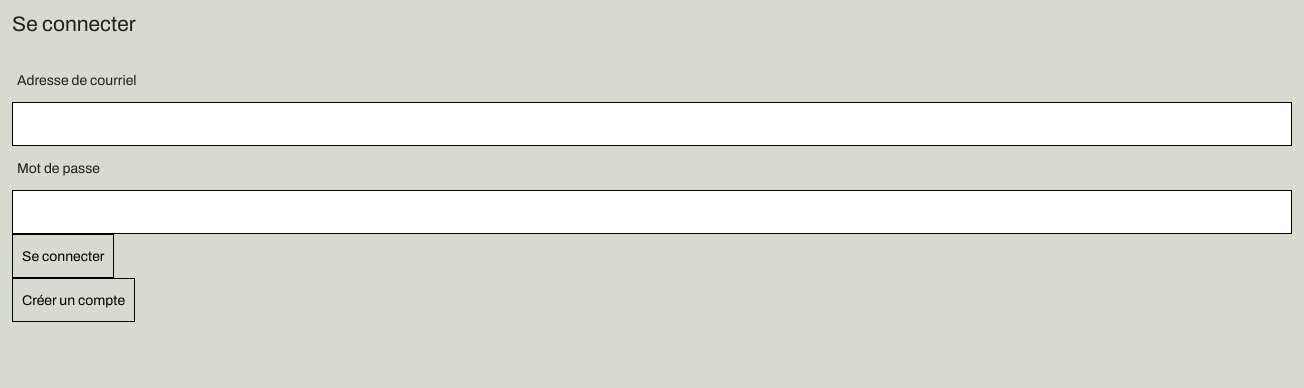
une erreur est annoncée, et jamais par la couleur seule (FR-060) › efface le message dès que la saisie reprend
Type "joueuse@exemple.test" into the field labelled "Adresse de courriel" at {"x": 652, "y": 124}, box [12,102,1292,146]
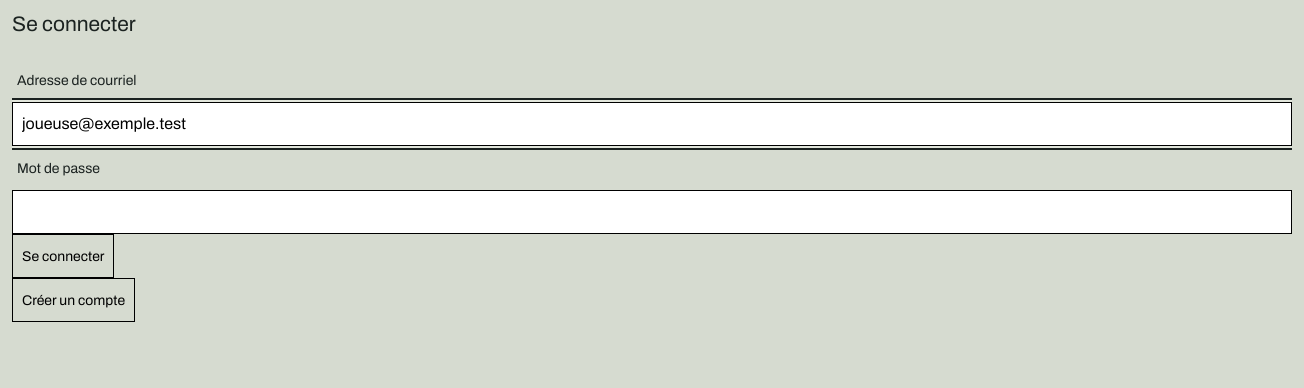
Type "mauvais-mot-de-passe" into the password field labelled "Mot de passe" at {"x": 652, "y": 212}, box [12,190,1292,234]
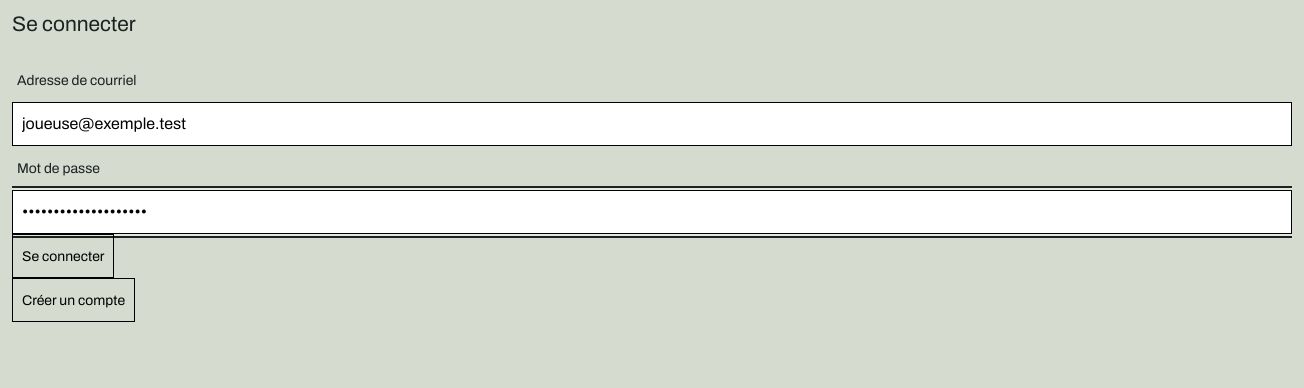
Click the button "Se connecter" at {"x": 63, "y": 256}, box [12,234,114,278]
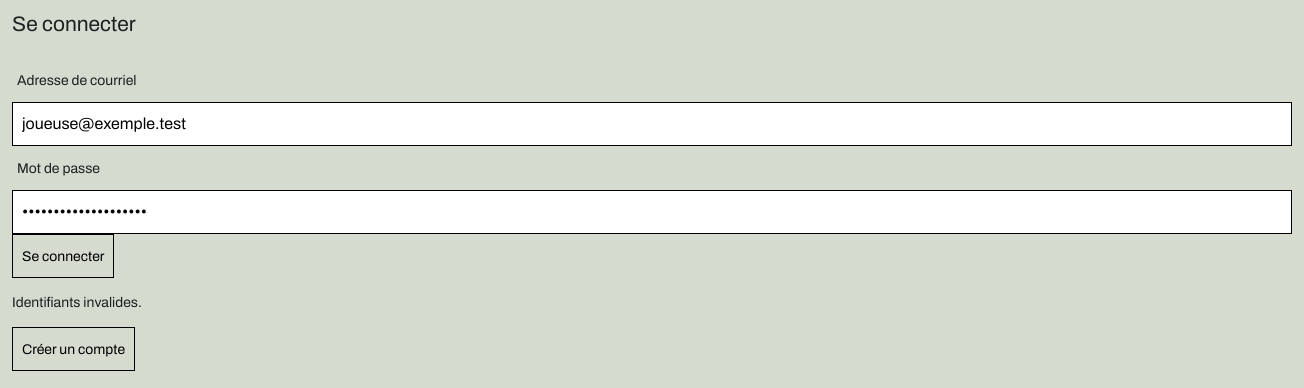
Check: the message "Identifiants invalides." is shown, box [12,295,142,310]
Type "x" into the field labelled "Adresse de courriel" at {"x": 652, "y": 124}, box [12,102,1292,146]
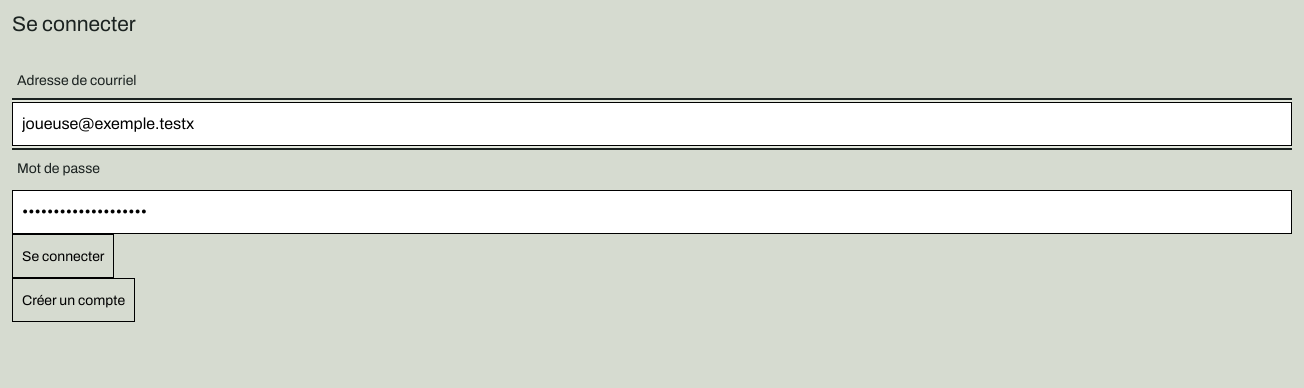
Check: the message "Identifiants invalides." is gone
